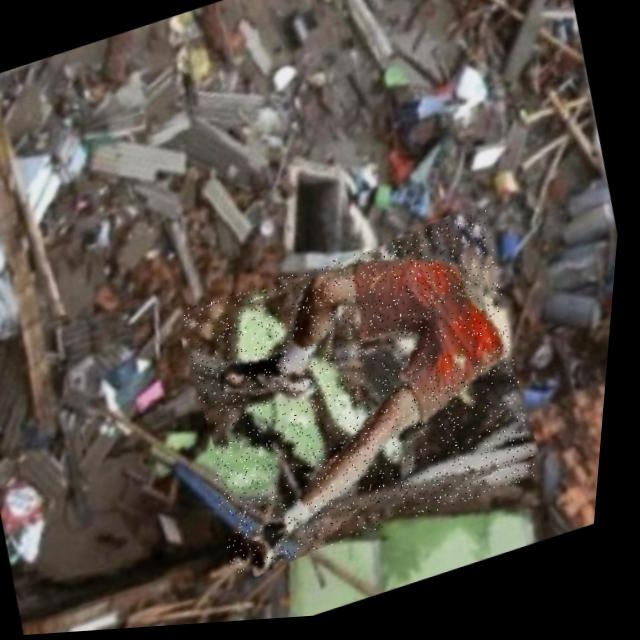Person in Rubble: (169, 213, 562, 585)
